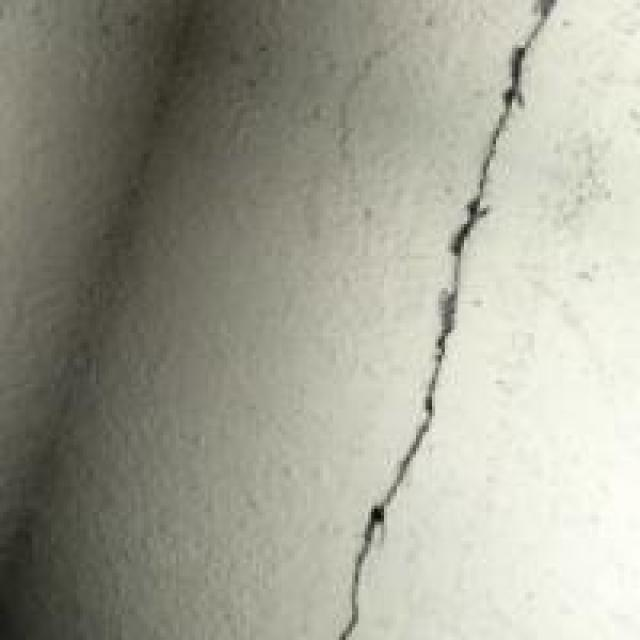Crack: (320, 0, 573, 637)
